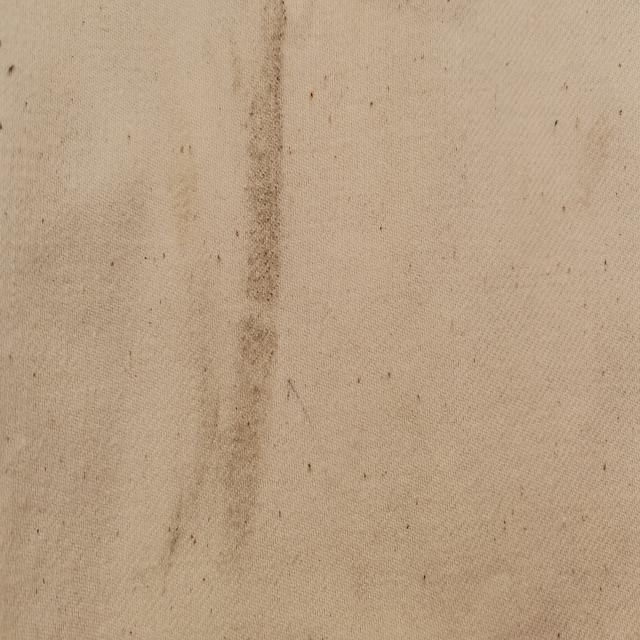taaaches: (198, 12, 308, 578), (162, 496, 189, 569)
